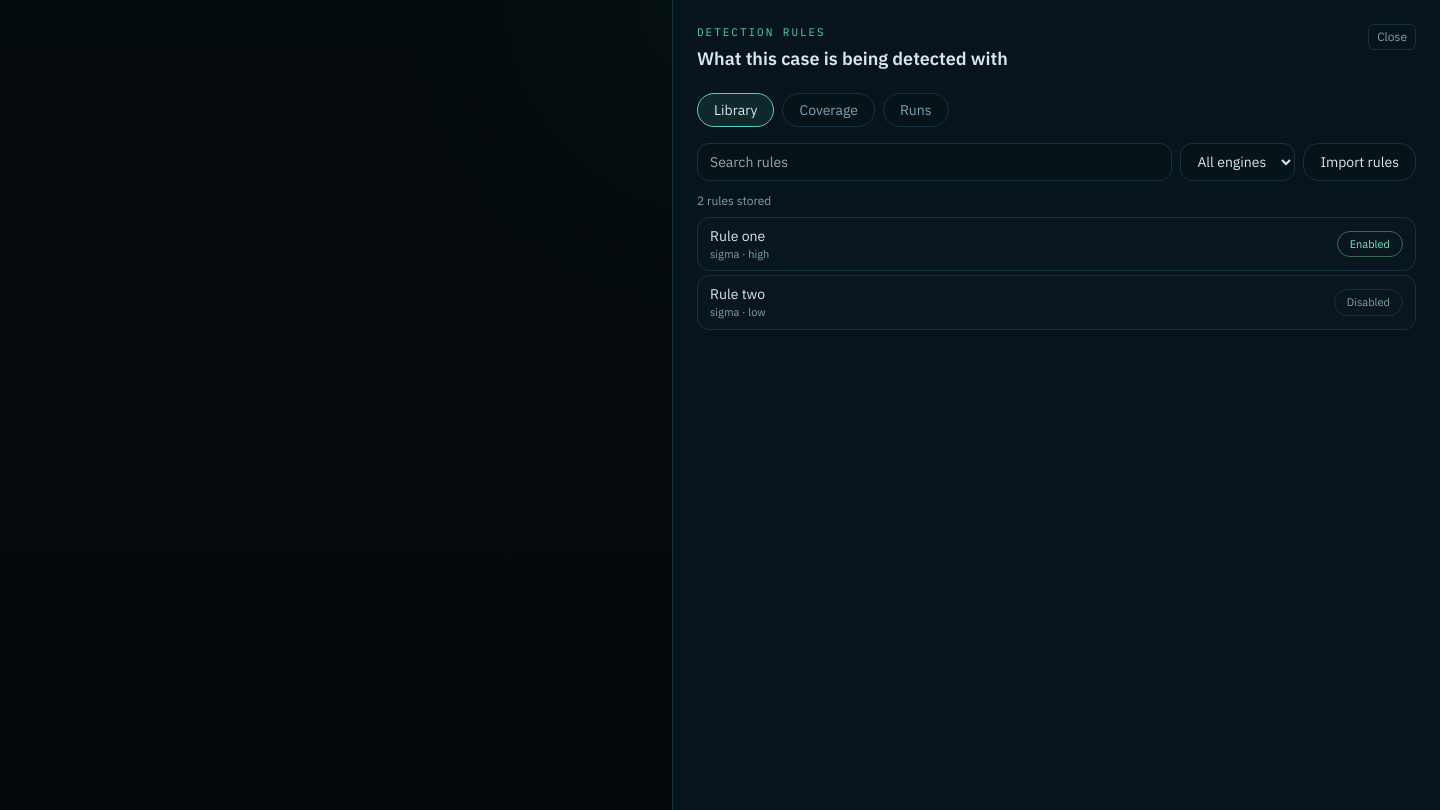
Test: DetectionRulesPanel › shows why rules cannot be evaluated, ranked by how many they cost
Click the button with test id "rules-panel-zone-coverage" at (829, 110), box [782, 92, 875, 126]
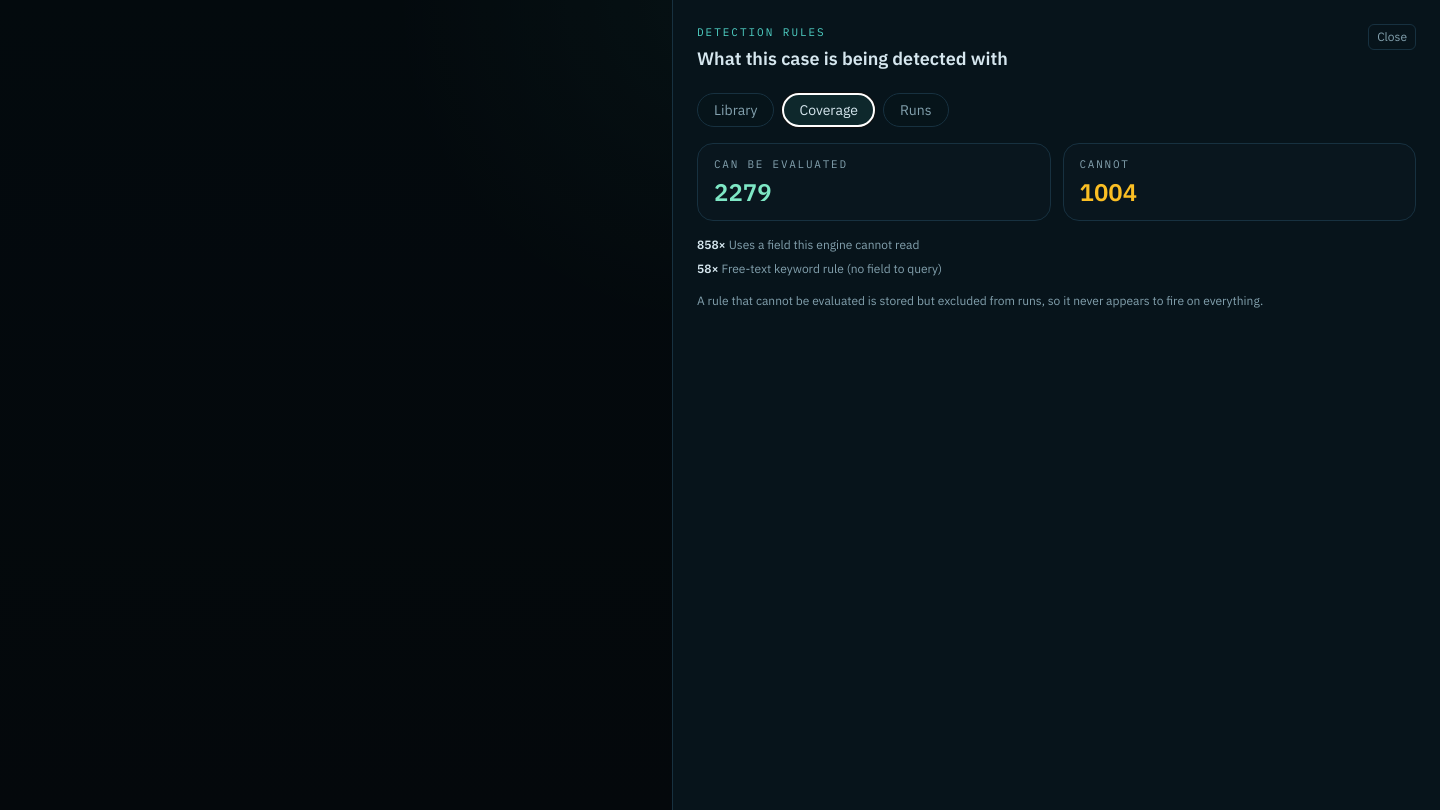
Expected: the list with test id "rules-panel-coverage-reasons" shows "858", [697, 237, 719, 252]
Expected: the list with test id "rules-panel-coverage-reasons" shows "Uses a field this engine cannot read", [729, 237, 920, 252]
